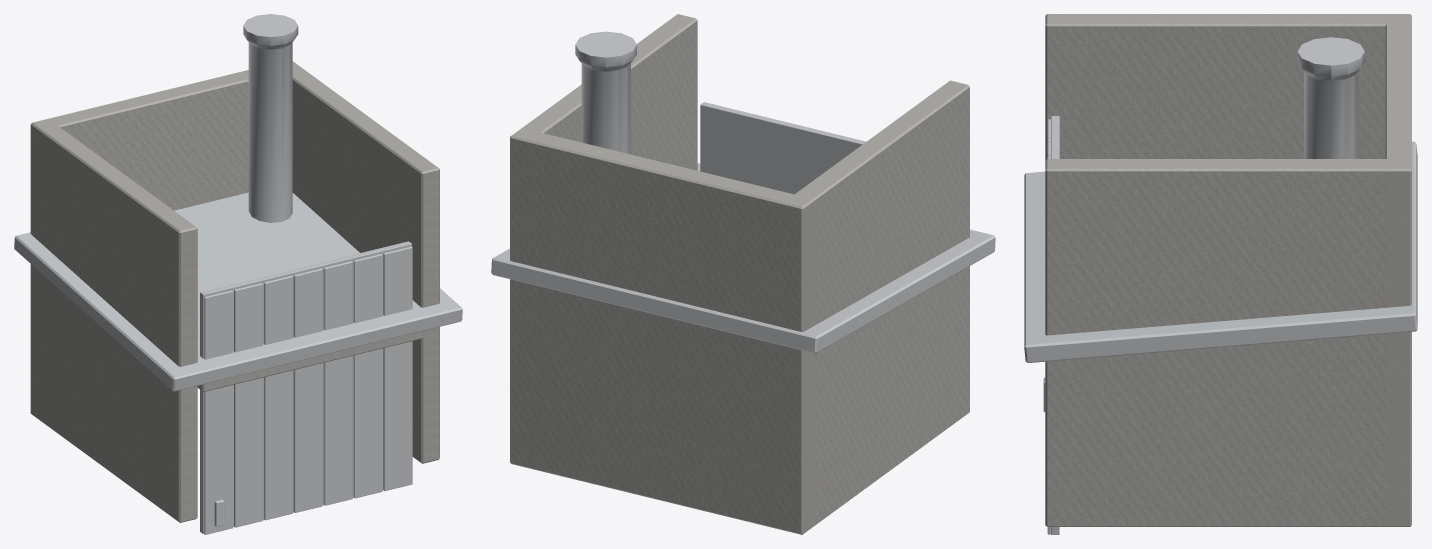
The model's file is japanese-school-and-city-street-incinerator-shed-293ad5d8__30070.glb.
The picture shows the model from 3 angles, left to right: view 1: azimuth 30°, elevation 25°; view 2: azimuth 150°, elevation 25°; view 3: azimuth 270°, elevation 25°; orthographic projection. The views are drawn at different scales.
Visible parts, largest first — view 1: incinerator-shed, shed-door; view 2: incinerator-shed, shed-door; view 3: incinerator-shed, shed-door.
Part boxes in pixels (x1,y1,x2,y2): incinerator-shed: (14,14,462,522); shed-door: (200,241,412,534); incinerator-shed: (491,14,995,534); shed-door: (700,102,865,194); incinerator-shed: (1024,14,1417,526); shed-door: (1043,116,1059,534).
Size of the model in its own units: 2.44 by 3.06 by 2.34.
Materials: 2 (1 with a texture image).
